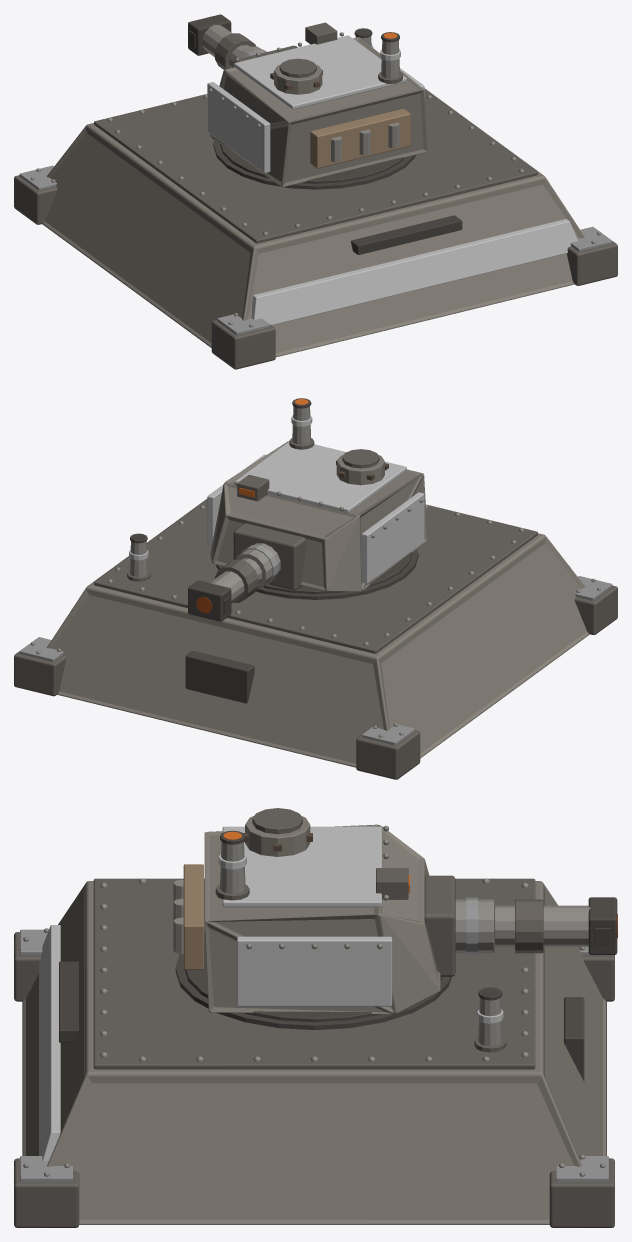
File: crucible_heavy_turret.glb
The picture shows the model from 3 angles, top to bottom: view 1: azimuth 30°, elevation 25°; view 2: azimuth 150°, elevation 25°; view 3: azimuth 270°, elevation 25°; orthographic projection. The views are drawn at different scales.
Visible parts, largest first — view 1: Body, Turret; view 2: Body, Turret; view 3: Body, Turret.
Part boxes in pixels (bbox=[...]): Body: bbox=[14, 28, 617, 369]; Turret: bbox=[188, 14, 427, 187]; Body: bbox=[14, 499, 617, 779]; Turret: bbox=[188, 398, 427, 621]; Body: bbox=[14, 878, 614, 1227]; Turret: bbox=[173, 808, 617, 1022].
Bounding box in the file's own units: 14.7 × 7.99 × 14.77.
